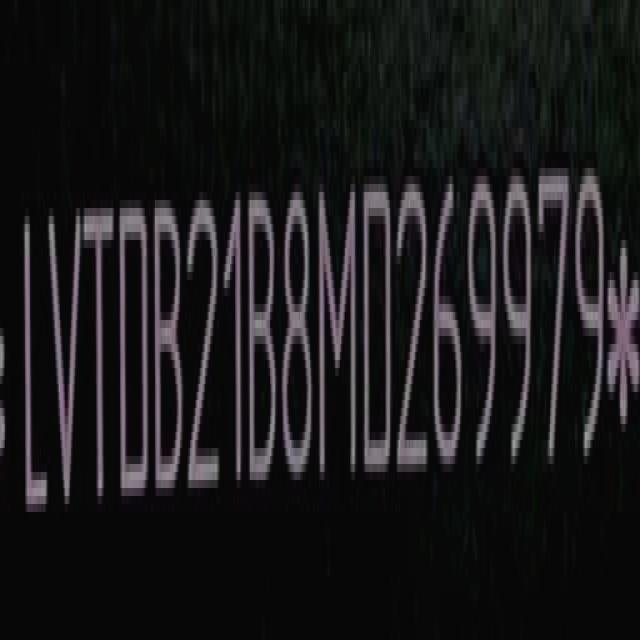1: (224, 190, 245, 500)
2: (189, 192, 223, 503), (396, 178, 430, 487)
6: (432, 180, 464, 482)
7: (539, 163, 575, 476)
8: (284, 190, 316, 492)
9: (466, 173, 499, 478), (504, 173, 536, 480), (575, 162, 605, 470)
B: (153, 194, 185, 512), (250, 190, 280, 492)
D: (117, 188, 151, 510), (362, 178, 395, 488)
L: (17, 204, 50, 526)
M: (319, 176, 359, 488)
T: (81, 207, 116, 507)
V: (47, 196, 81, 522)
